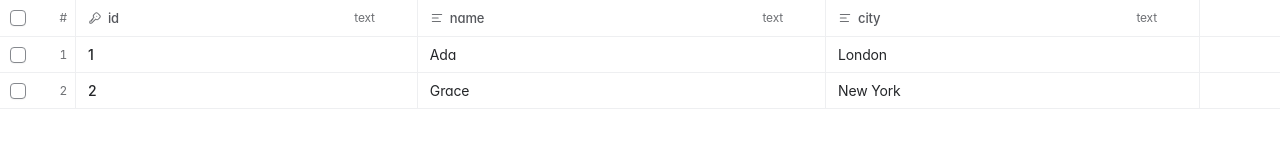
Test case: Enter › opens the editor on the cursor cell when the table can be edited
Press the mouse on the text "Ada" at {"x": 622, "y": 55}, box x1=418 y1=37 x2=826 y2=73
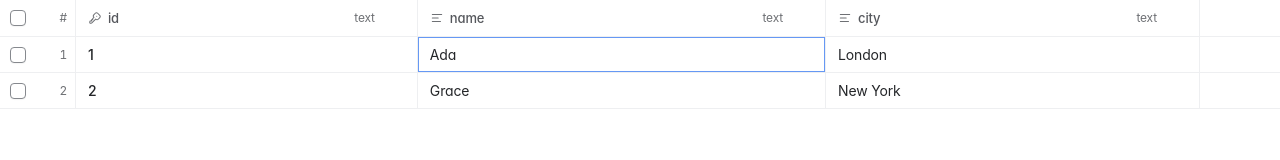
Press Enter in the table
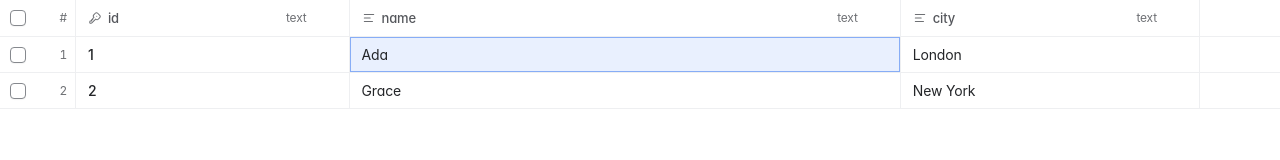
Expected: the field showing "Ada" is shown, x1=362 y1=44 x2=888 y2=64
